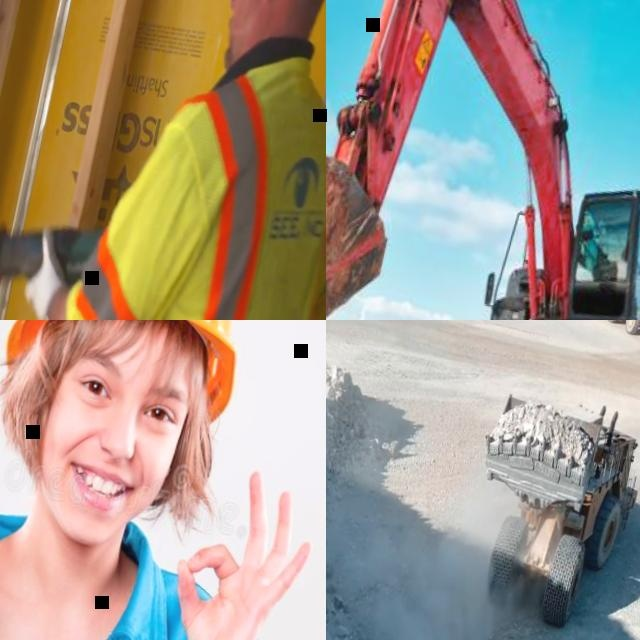Hardhat: (1, 320, 275, 418)
NO-Mask: (33, 445, 163, 553), (222, 0, 278, 71)
NO-Safety Vest: (0, 514, 226, 640)
Person: (0, 0, 326, 320), (0, 320, 326, 640)
Safety Vest: (42, 30, 326, 320)
machinery: (326, 0, 640, 320), (449, 380, 640, 640)
